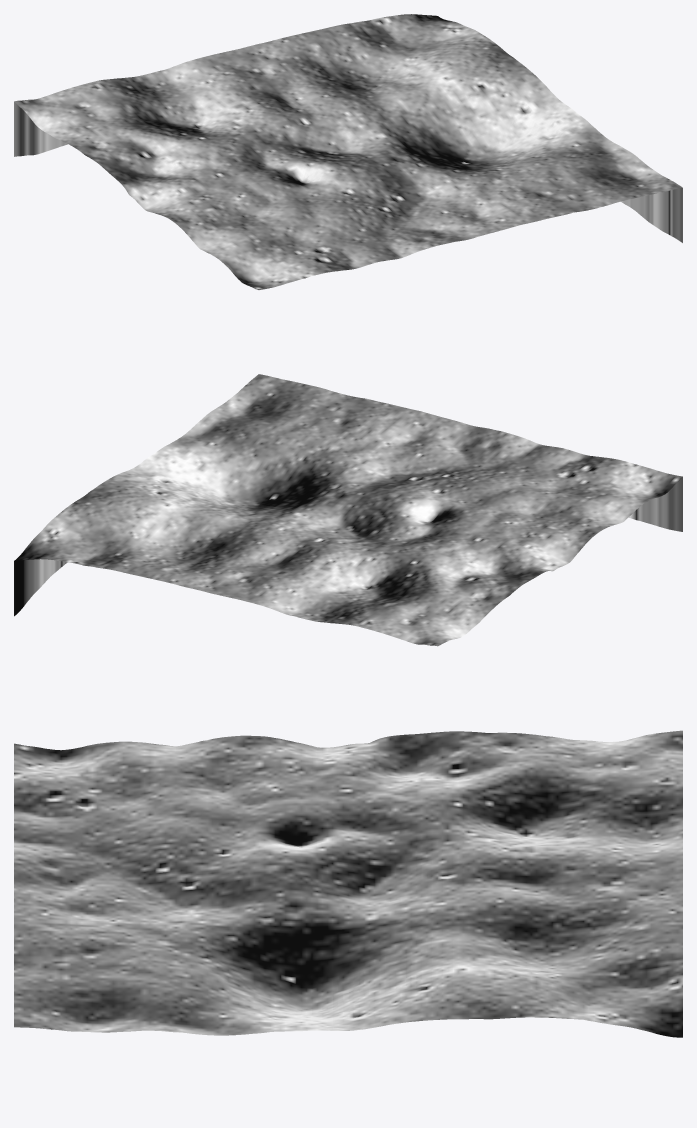
3 views of the same model, one above another, from view 1: azimuth 30°, elevation 25°; view 2: azimuth 150°, elevation 25°; view 3: azimuth 270°, elevation 25° (orthographic). The views are drawn at different scales.
Size of the model in its own units: 639 by 107 by 639.
Materials: 1 (1 with a texture image).
